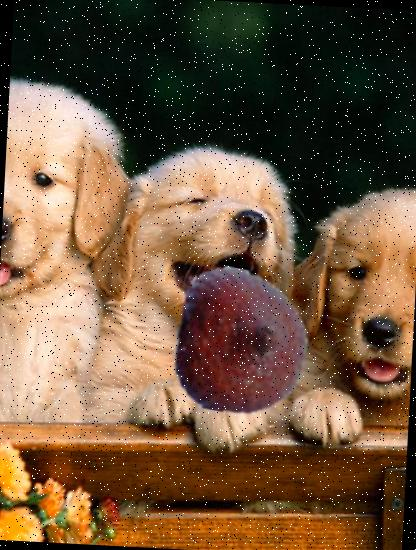Salak: (165, 266, 316, 417)
